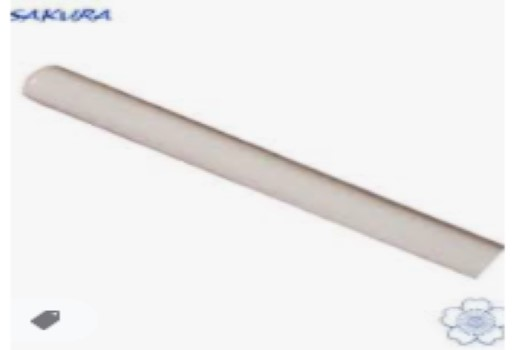baston_e: (63, 63, 454, 285)
baston_v: (462, 223, 506, 289), (14, 52, 60, 112)
